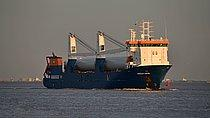Ship: (40, 16, 176, 92)
